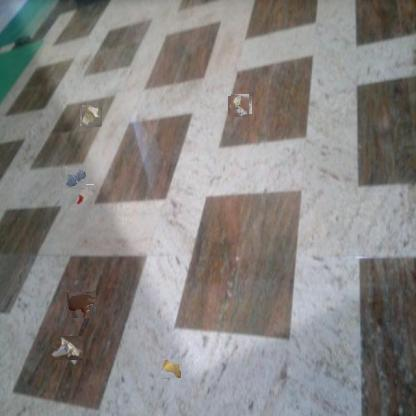dirty: (54, 334, 82, 362), (80, 106, 102, 127), (161, 358, 182, 378), (74, 184, 94, 205), (230, 95, 250, 115)
liquid: (66, 292, 96, 318), (65, 168, 85, 188)
